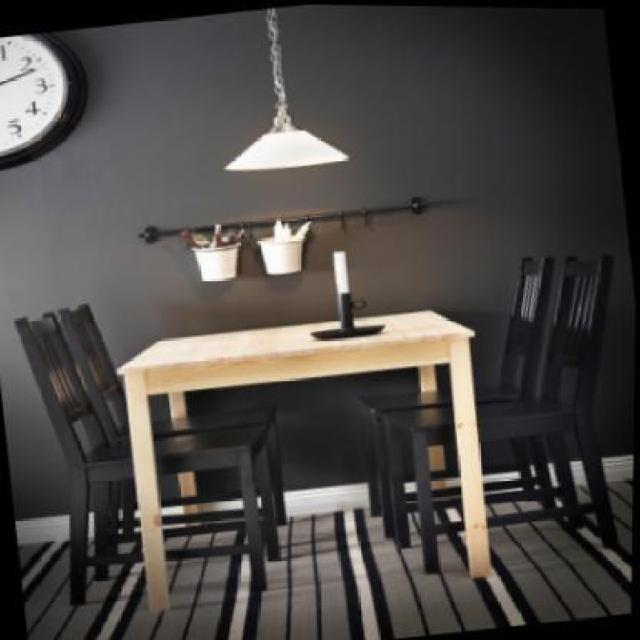tables: (114, 308, 492, 612)
